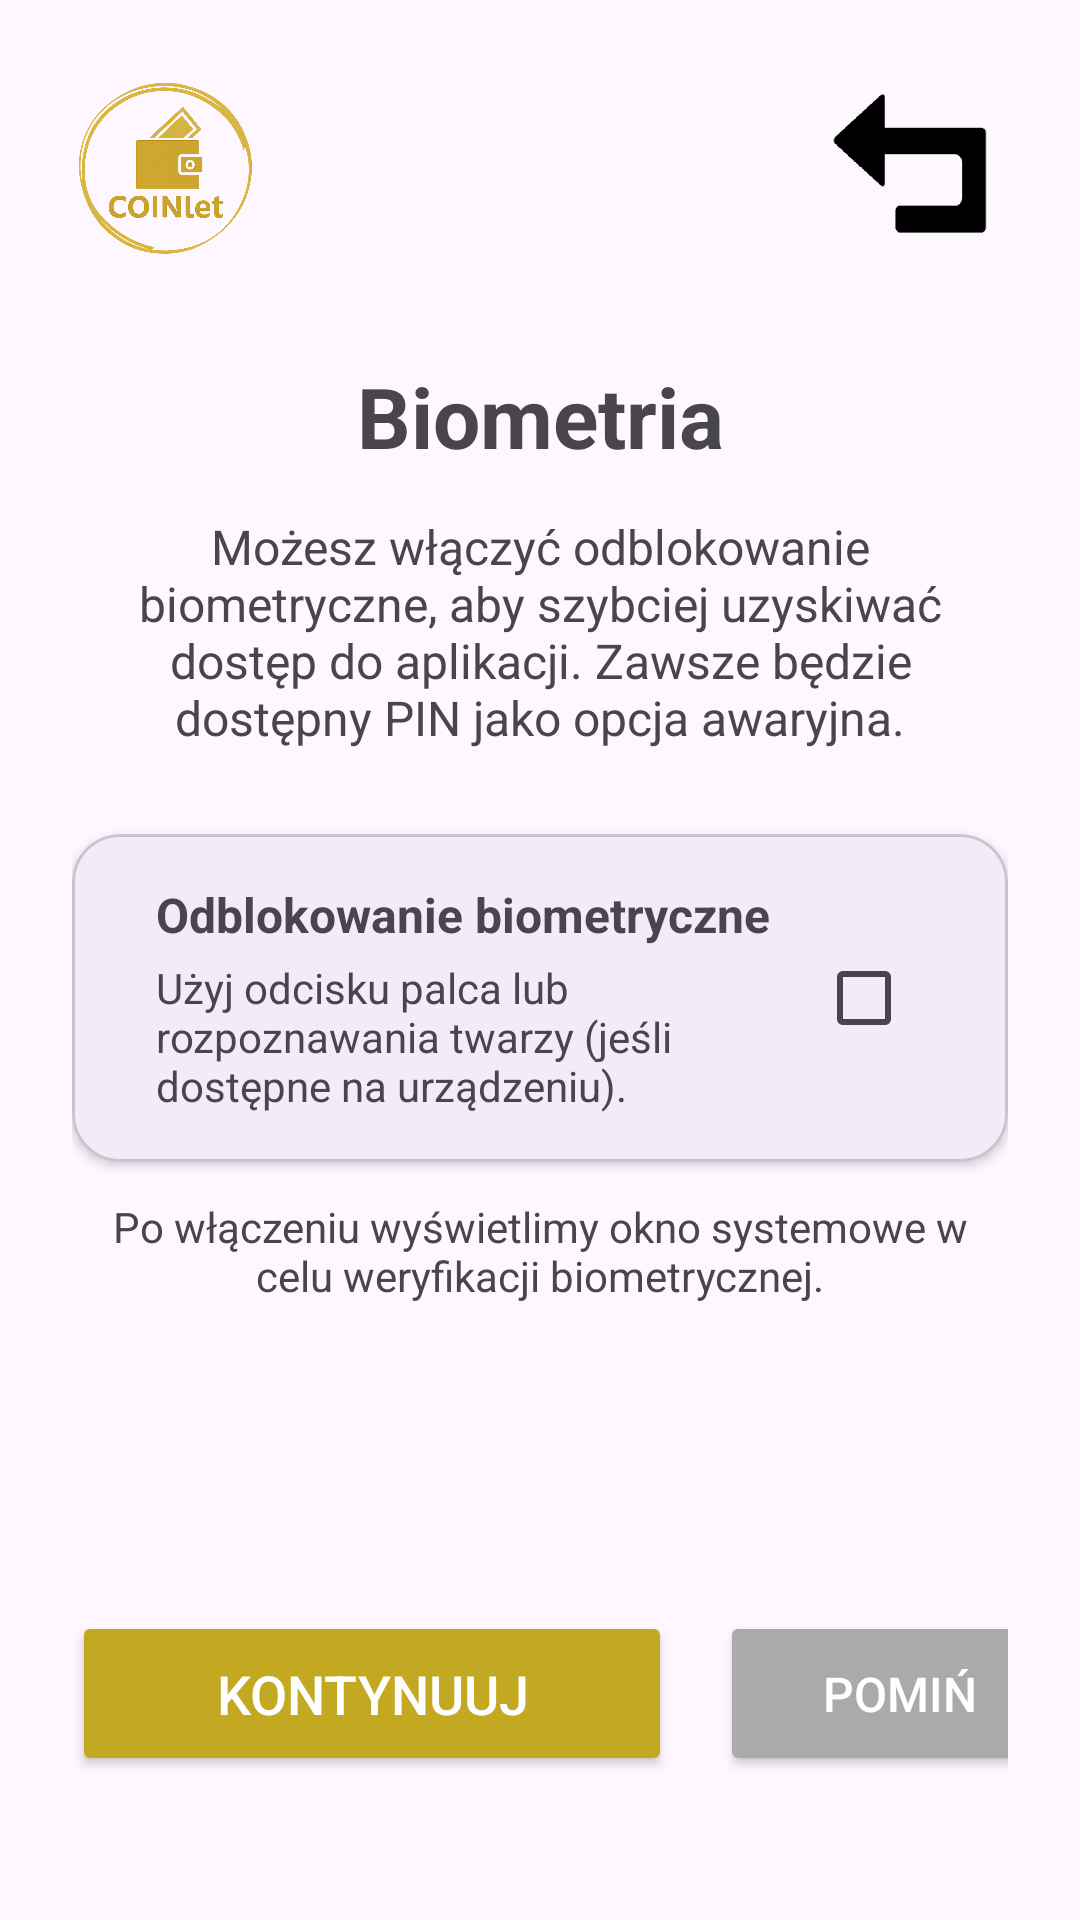

Named icons in this screenshot (1080×1920) and their bounding boxes, (x1, y1, x2, y2):
back: (833, 94, 987, 233)
